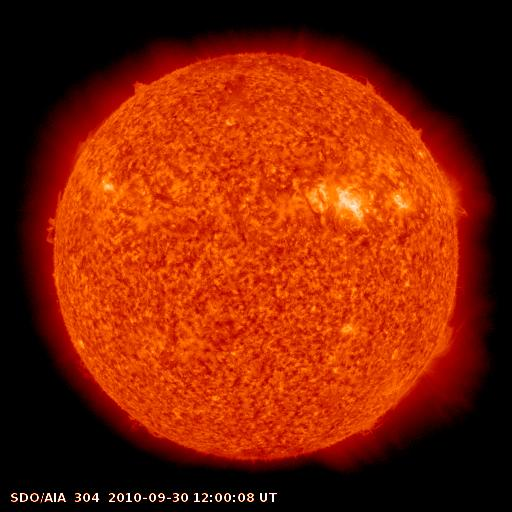prominence: (425, 309, 466, 375), (37, 190, 73, 249), (68, 120, 106, 169), (116, 73, 167, 103), (348, 65, 384, 105), (70, 350, 108, 387)
